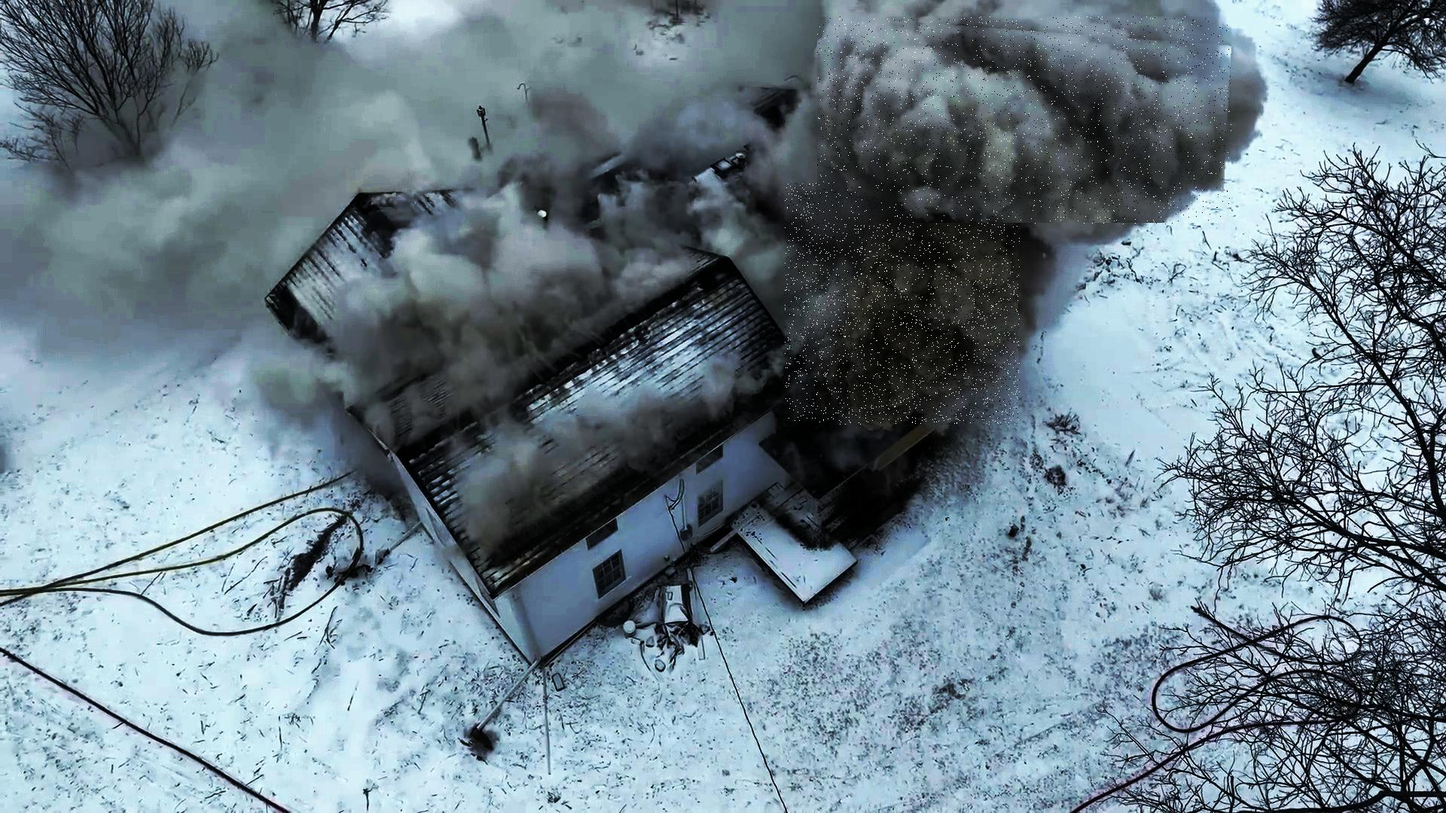smoke: (817, 17, 1231, 225), (785, 183, 1020, 425)
